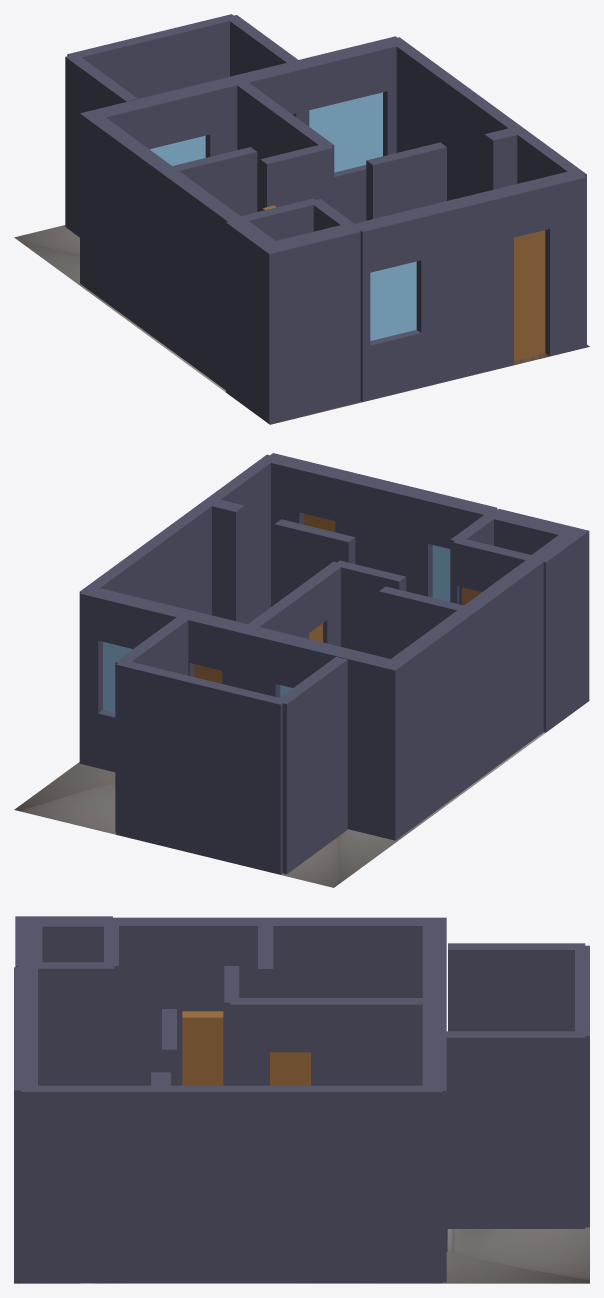
3 views of the same model, one above another, from view 1: azimuth 30°, elevation 25°; view 2: azimuth 150°, elevation 25°; view 3: azimuth 270°, elevation 25° (orthographic). The views are drawn at different scales.
Parts seen in each view (by area): view 1: wall, Window, Door, FloorPlan; view 2: wall, FloorPlan, Window, Door; view 3: wall, FloorPlan, door, Door.
Part boxes in pixels (<box>): wall: <box>65,14,586,424</box>; Window: <box>150,92,416,340</box>; Door: <box>514,230,545,360</box>; FloorPlan: <box>14,225,589,424</box>; wall: <box>79,453,589,874</box>; FloorPlan: <box>14,700,589,887</box>; Window: <box>103,545,450,712</box>; Door: <box>194,513,481,683</box>; wall: <box>14,916,589,1283</box>; FloorPlan: <box>14,1227,589,1283</box>; door: <box>182,1011,223,1085</box>; Door: <box>270,1052,310,1085</box>.
Bounding box in the file's own units: 5.51 × 2.8 × 7.64.
5 materials, 1 textured.
